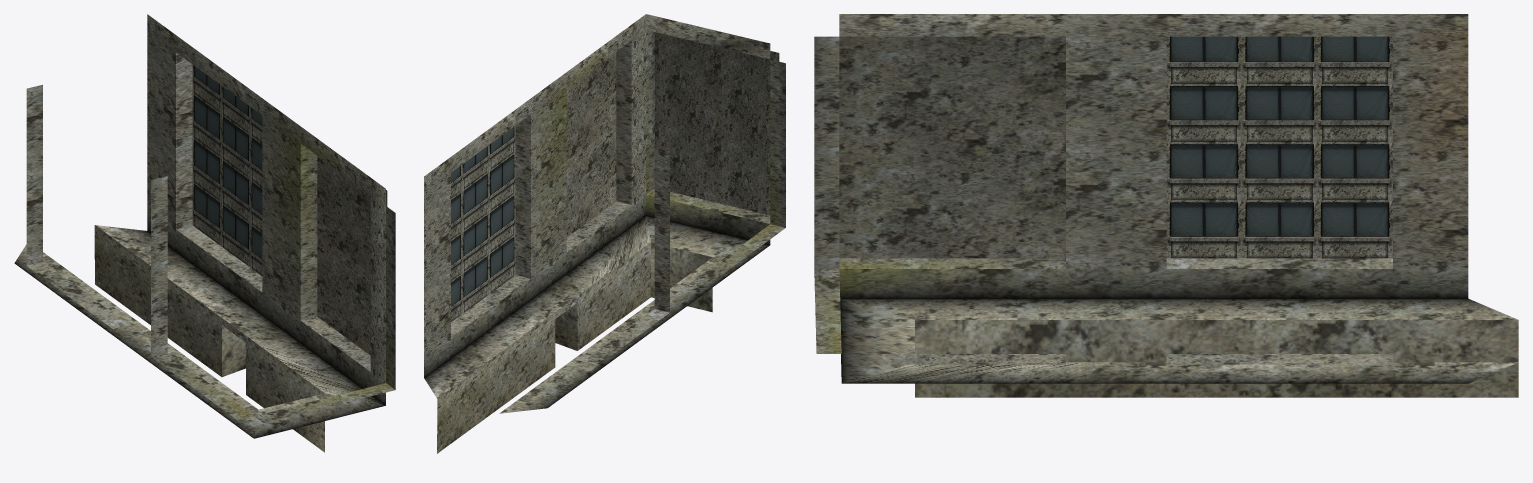
The model's file is M10_Z02_09_TowerA.glb.
3 views of the same model, side by side, from view 1: azimuth 30°, elevation 25°; view 2: azimuth 150°, elevation 25°; view 3: azimuth 270°, elevation 25° (orthographic). The views are drawn at different scales.
Parts seen in each view (by area): view 1: M10_Z02_09_TOWERA; view 2: M10_Z02_09_TOWERA; view 3: M10_Z02_09_TOWERA.
Part boxes in pixels (bbox=[...]): M10_Z02_09_TOWERA: bbox=[14, 14, 395, 452]; M10_Z02_09_TOWERA: bbox=[424, 14, 785, 453]; M10_Z02_09_TOWERA: bbox=[814, 14, 1518, 397].
Size of the model in its own units: 10.63 by 15.9 by 28.
Materials: 2 (2 with a texture image).
